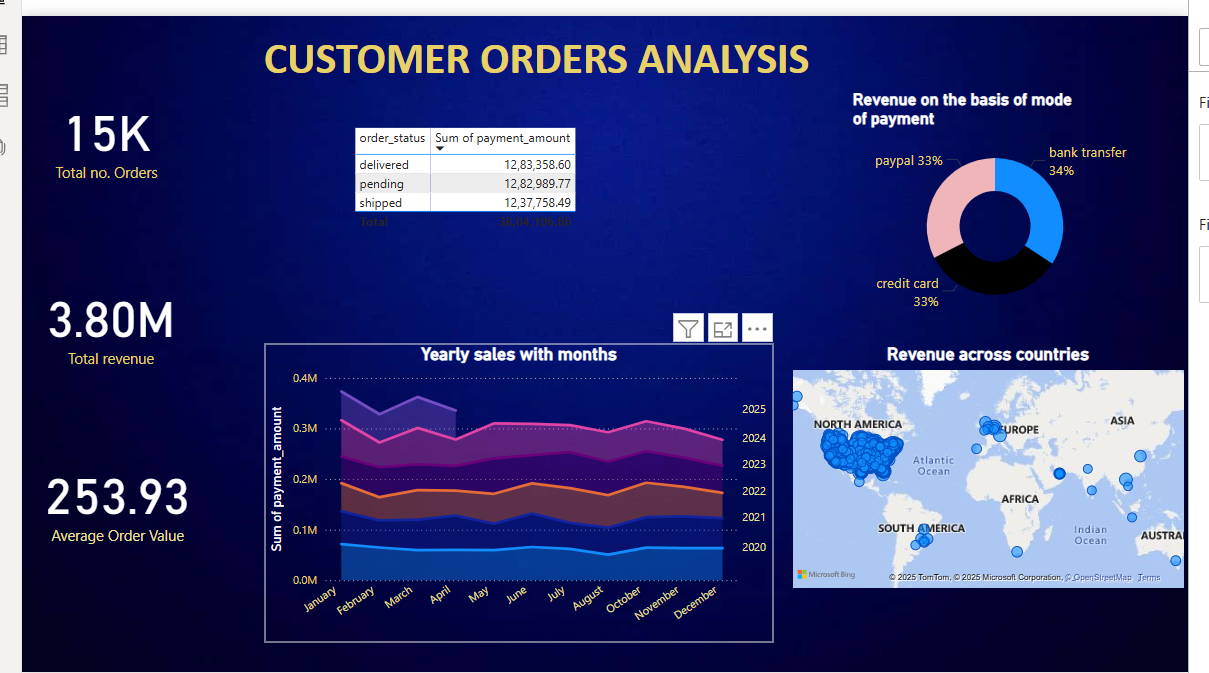

The dashboard page shown, as its layout file describes it:
{"tool":"powerbi","page":{"name":"Page 1","canvas":[1280,720],"ordinal":0},"visuals":[{"type":"card","fields":{"Values":["customer_orders.Total no. Orders"]},"box":[15.7,50,155.7,167.1],"z":2002},{"type":"card","fields":{"Values":["Sum(payments.payment_amount)"]},"box":[0,265.7,195.7,142.9],"z":2003},{"type":"donutChart","title":"Revenue on the basis of mode of payment","fields":{"Series":["payments.payment_method"],"Y":["Sum(payments.payment_amount)"]},"box":[907.1,81.4,322.9,255.7],"z":2004},{"type":"stackedAreaChart","title":"Yearly sales with months","fields":{"Category":["customer_orders.order_date.Variation.Date Hierarchy.Month"],"Y":["Sum(payments.payment_amount)"],"Series":["customer_orders.order_date.Variation.Date Hierarchy.Year"]},"box":[265.7,360,558.6,327.1],"z":2005},{"type":"card","fields":{"Values":["customer_orders.Average Order Value"]},"box":[15.7,442.9,180,177.1],"z":2006},{"type":"tableEx","fields":{"Values":["customer_orders.order_status","Sum(payments.payment_amount)"]},"box":[360,118.6,371.4,218.6],"z":2007},{"type":"map","title":"Revenue across countries","fields":{"Category":["customer_orders.shipping_address"],"Size":["Sum(payments.payment_amount)"]},"box":[841.4,360,438.6,272.9],"z":2008},{"type":"textbox","box":[238.6,12.9,668.6,68.6],"z":2009}]}

Visuals, with their boxes on the page's 1280x720 design canvas (x1, y1, x2, y2). These are canvas units, not pixel positions in the 1209x673 screenshot, which may show the page scaled, cropped or inside an application window:
card - customer_orders.Total no. Orders: (left=16, top=50, right=171, bottom=217)
card - Sum(payments.payment_amount): (left=0, top=266, right=196, bottom=409)
"Revenue on the basis of mode of payment" donutChart: (left=907, top=81, right=1230, bottom=337)
"Yearly sales with months" stackedAreaChart: (left=266, top=360, right=824, bottom=687)
card - customer_orders.Average Order Value: (left=16, top=443, right=196, bottom=620)
tableEx - customer_orders.order_status x Sum(payments.payment_amount): (left=360, top=119, right=731, bottom=337)
"Revenue across countries" map: (left=841, top=360, right=1280, bottom=633)
textbox: (left=239, top=13, right=907, bottom=82)
